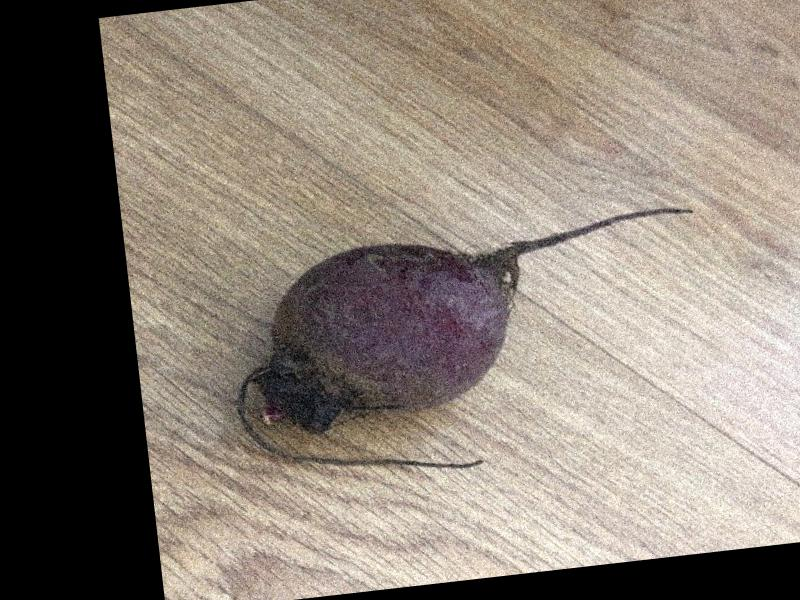Beet: (220, 203, 719, 492)
